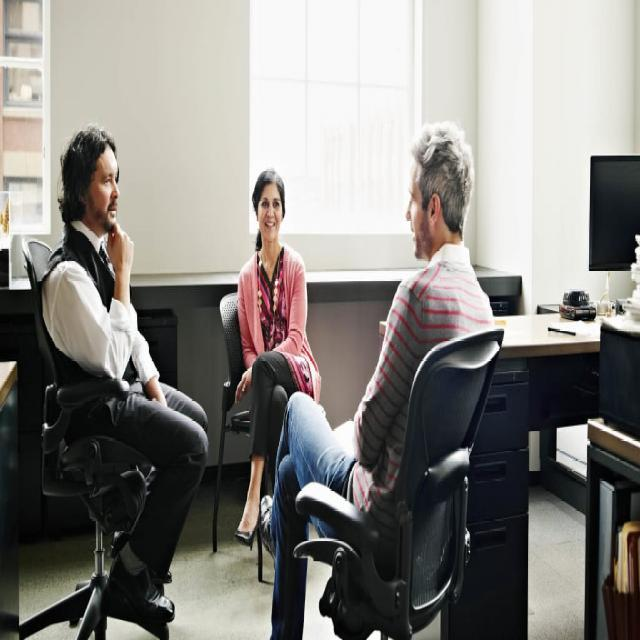No_BreathingApparatus: (89, 160, 121, 224)
No_Goggles: (259, 197, 282, 211)
No_Harness: (241, 260, 305, 347)
No_Helmet: (395, 115, 479, 180), (70, 123, 121, 168), (244, 152, 297, 194)
